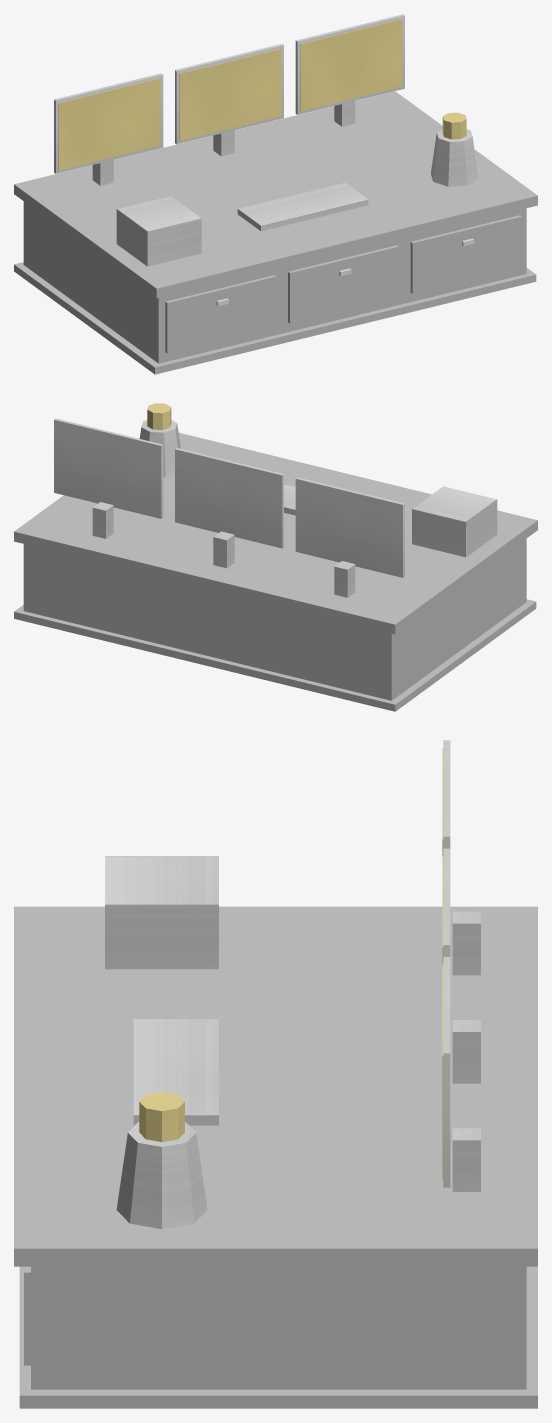
File: bench_hitech_research.obj
The picture shows the model from 3 angles, top to bottom: view 1: azimuth 30°, elevation 25°; view 2: azimuth 150°, elevation 25°; view 3: azimuth 270°, elevation 25°; orthographic projection. The views are drawn at different scales.
Parts seen in each view (by area): view 1: bench_hitech_research; view 2: bench_hitech_research; view 3: bench_hitech_research.
Boxes of the visible parts, <box> form: bench_hitech_research: <box>14,14,537,374</box>; bench_hitech_research: <box>14,403,537,711</box>; bench_hitech_research: <box>14,740,537,1408</box>.
Size of the model in its own units: 2.84 by 1.32 by 1.84.
